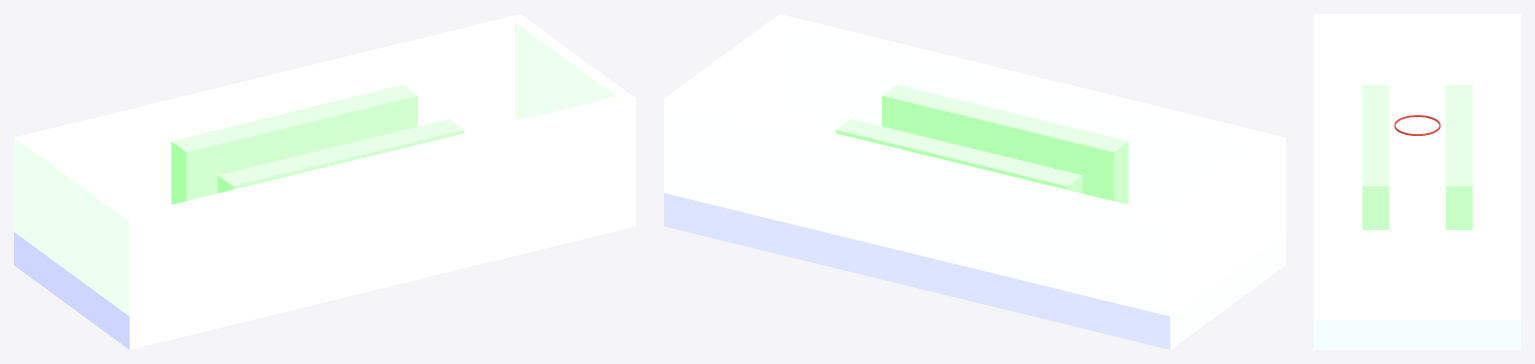
File: map_will-Ea.fbx
The picture shows the model from 3 angles, left to right: view 1: azimuth 30°, elevation 25°; view 2: azimuth 150°, elevation 25°; view 3: azimuth 270°, elevation 25°; orthographic projection. The views are drawn at different scales.
Visible parts, largest first — view 1: wall.001, Ea, wall, obsticle; view 2: wall.001, Ea, wall, obsticle; view 3: wall, Ea, obsticle, wall.001, spawn.
Boxes of the visible parts, x1,y1,x2,y2 form: wall.001: [14, 14, 635, 316]; Ea: [14, 117, 635, 349]; wall: [14, 14, 634, 316]; obsticle: [171, 85, 464, 204]; wall.001: [664, 14, 1285, 316]; Ea: [664, 117, 1285, 349]; wall: [665, 14, 1285, 316]; obsticle: [835, 85, 1128, 204]; wall: [1314, 14, 1520, 319]; Ea: [1314, 104, 1520, 349]; obsticle: [1362, 85, 1472, 229]; wall.001: [1314, 14, 1520, 234]; spawn: [1394, 115, 1440, 135].
Bounding box in the file's own units: 578 × 140 × 228.
